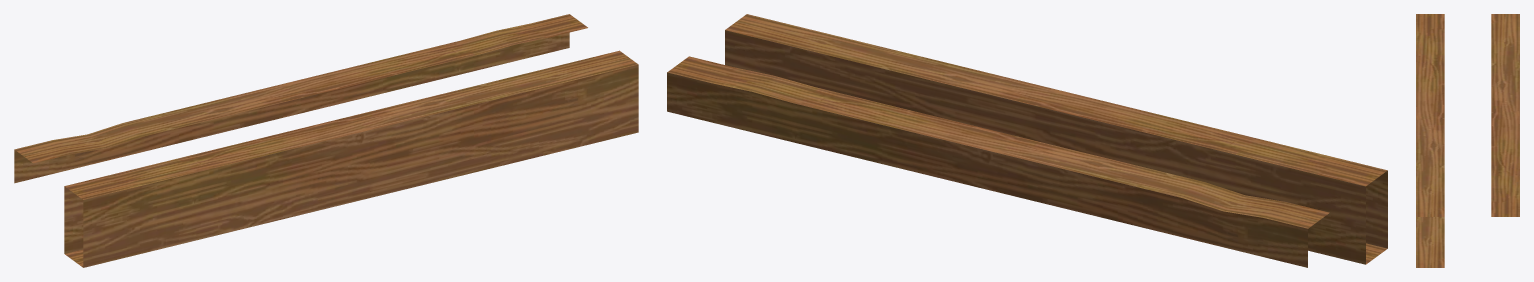
The model's file is Wall_BottomCover.gltf.
3 renders of one model, left to right at view 1: azimuth 30°, elevation 25°; view 2: azimuth 150°, elevation 25°; view 3: azimuth 270°, elevation 25°, orthographic. The views are drawn at different scales.
Visible parts, largest first — view 1: Wall_BottomCover; view 2: Wall_BottomCover; view 3: Wall_BottomCover.
Part boxes in pixels (x1=…): Wall_BottomCover: x1=14, y1=14, x2=638, y2=267; Wall_BottomCover: x1=667, y1=14, x2=1387, y2=267; Wall_BottomCover: x1=1416, y1=14, x2=1519, y2=267.
Size of the model in its own units: 2 by 0.2375 by 0.4316.
1 material, 1 textured.
